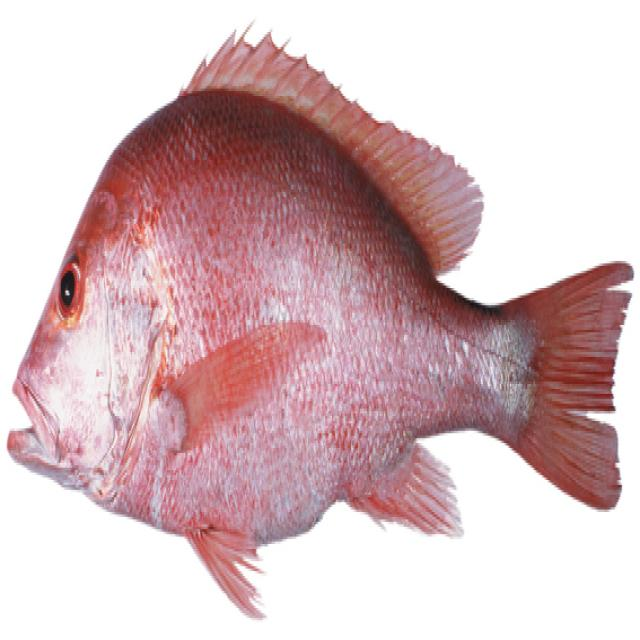ikan: (7, 22, 633, 620)
